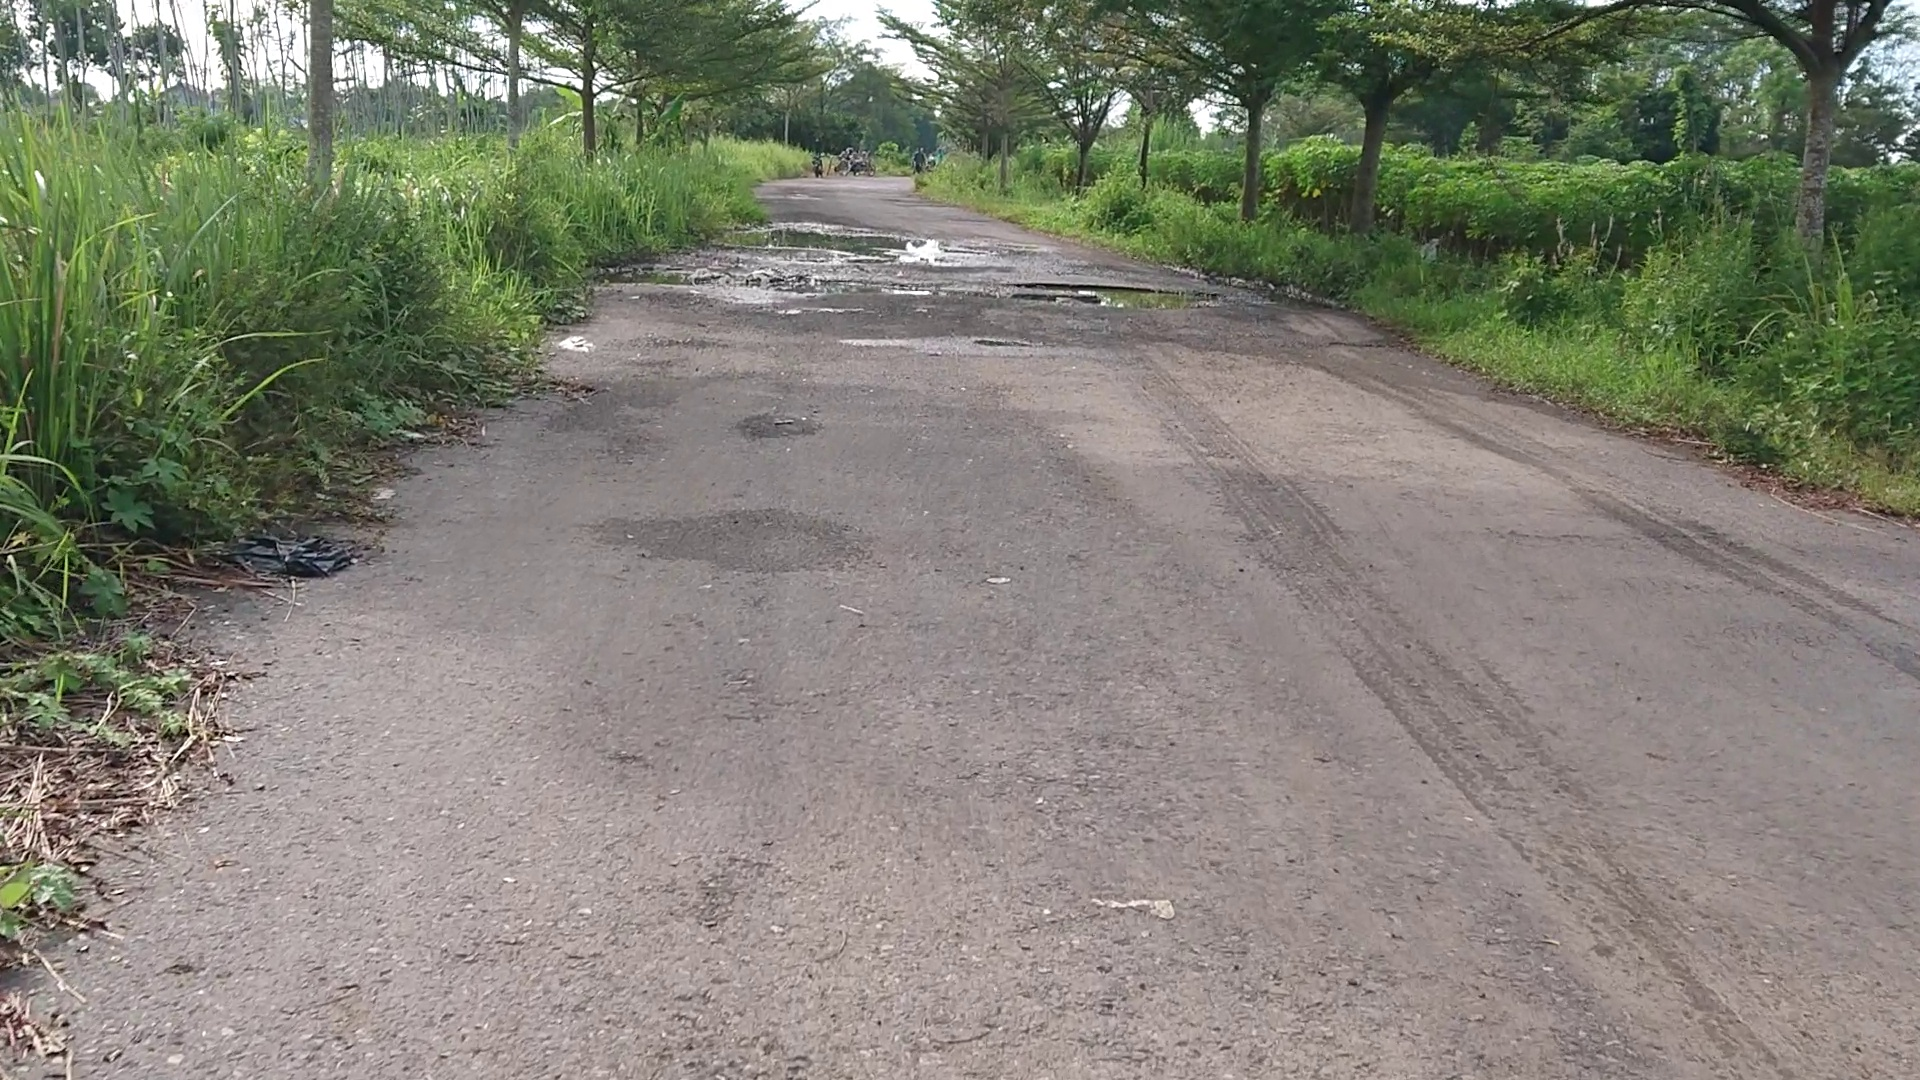Berlubang: (728, 219, 955, 299), (994, 265, 1222, 319)
